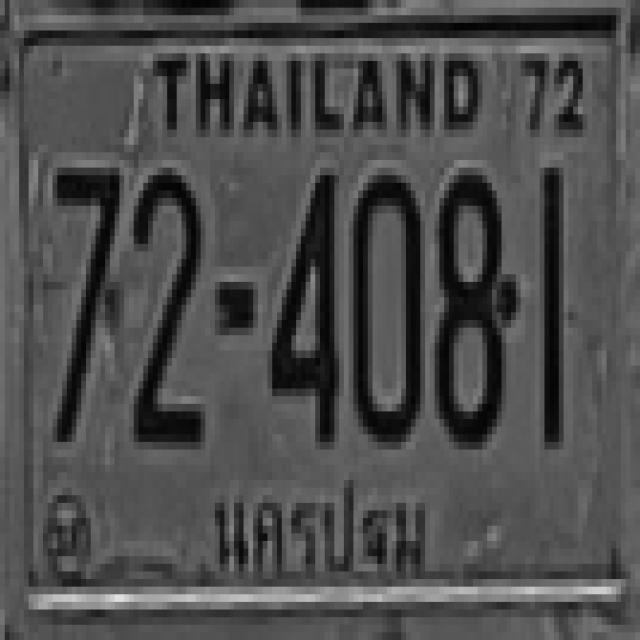0: (349, 168, 420, 434)
1: (538, 164, 562, 446)
2: (132, 164, 198, 438)
4: (268, 168, 334, 442)
7: (50, 164, 117, 438)
8: (432, 168, 509, 442)
NakhonPathom: (200, 461, 435, 604)
